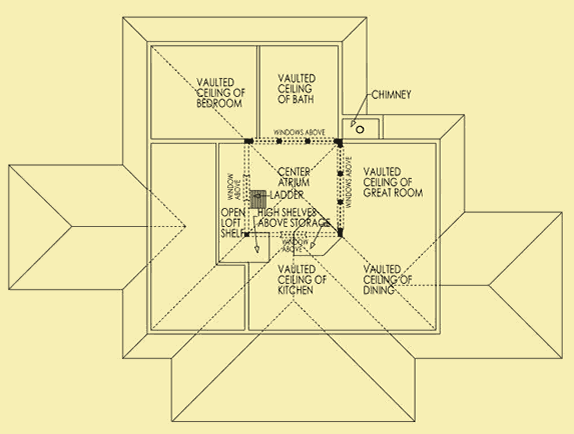stairs: (244, 188, 269, 211)
window: (335, 149, 346, 226)
